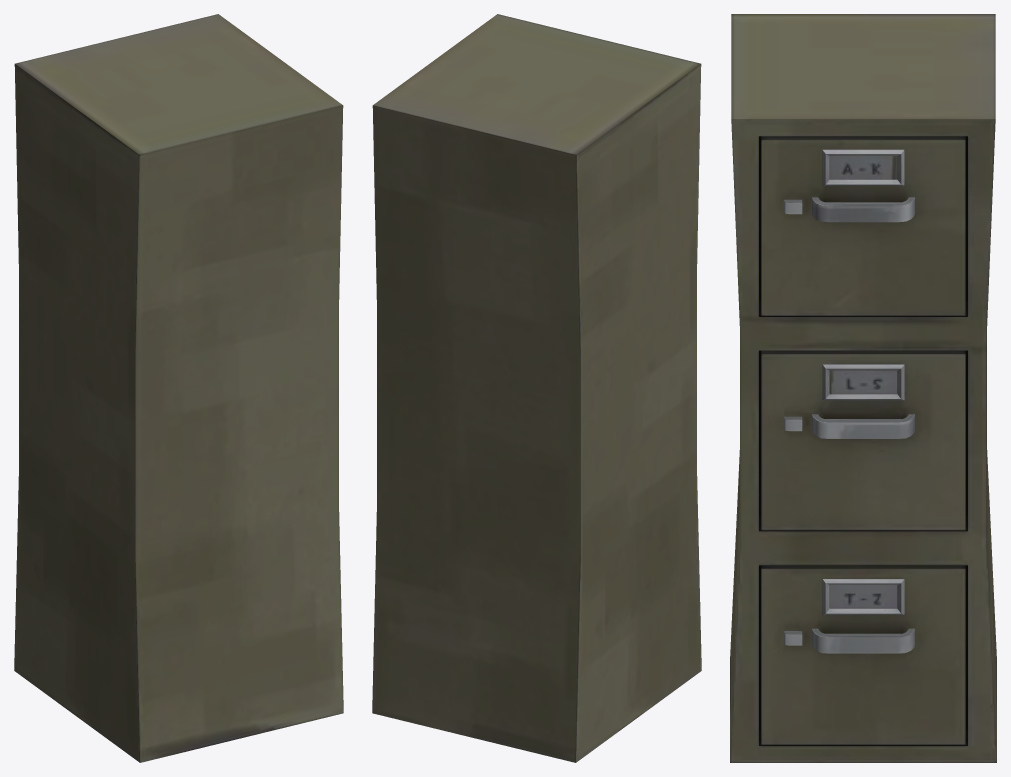
3 renders of one model, left to right at view 1: azimuth 30°, elevation 25°; view 2: azimuth 150°, elevation 25°; view 3: azimuth 270°, elevation 25°, orthographic. The views are drawn at different scales.
Parts seen in each view (by area): view 1: body0_model0_lod0_mesh0; view 2: body0_model0_lod0_mesh0; view 3: body0_model0_lod0_mesh0.
Boxes of the visible parts, x1=… form: body0_model0_lod0_mesh0: x1=14, y1=14, x2=343, y2=762; body0_model0_lod0_mesh0: x1=372, y1=14, x2=701, y2=762; body0_model0_lod0_mesh0: x1=730, y1=14, x2=996, y2=762.
Size of the model in its own units: 26.73 by 69.78 by 26.21.
Materials: 1 (1 with a texture image).
